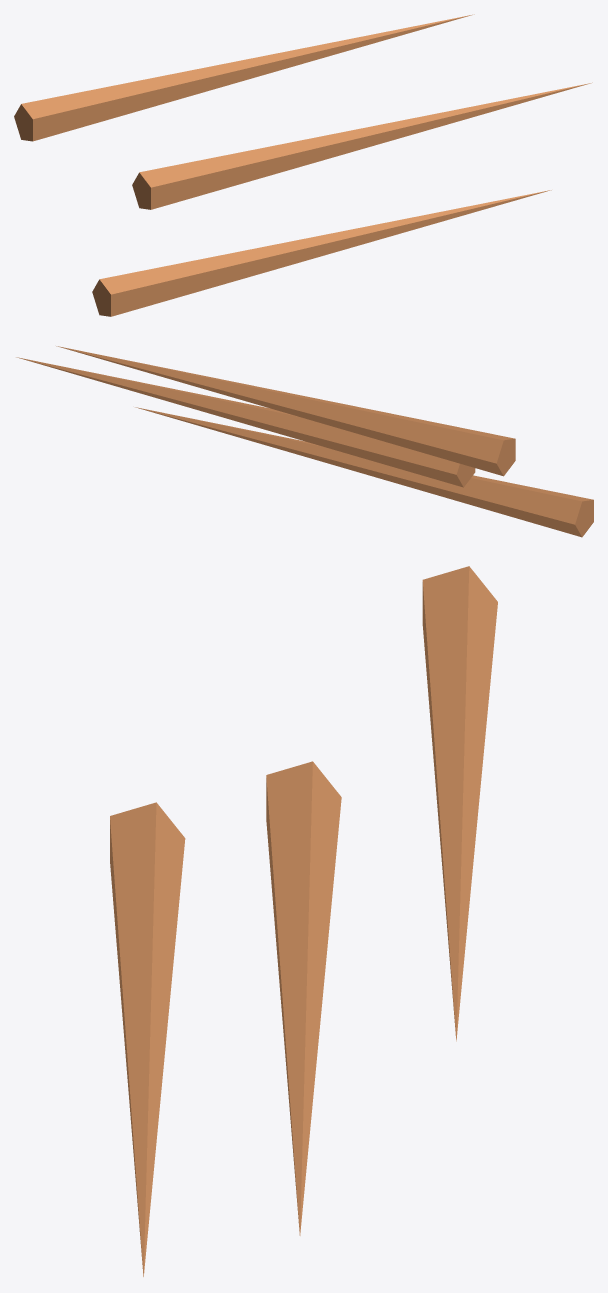
The model's file is item_081_copper_needle_m.glb.
3 renders of one model, top to bottom at view 1: azimuth 30°, elevation 25°; view 2: azimuth 150°, elevation 25°; view 3: azimuth 270°, elevation 25°, orthographic. The views are drawn at different scales.
Visible parts, largest first — view 1: item_081_copper_needle_m; view 2: item_081_copper_needle_m; view 3: item_081_copper_needle_m.
Part boxes in pixels (x1,y1,x2,y2): item_081_copper_needle_m: [14, 14, 592, 316]; item_081_copper_needle_m: [16, 346, 593, 537]; item_081_copper_needle_m: [110, 566, 497, 1276].
Bounding box in the file's own units: 0.47 × 0.1304 × 0.1489.
